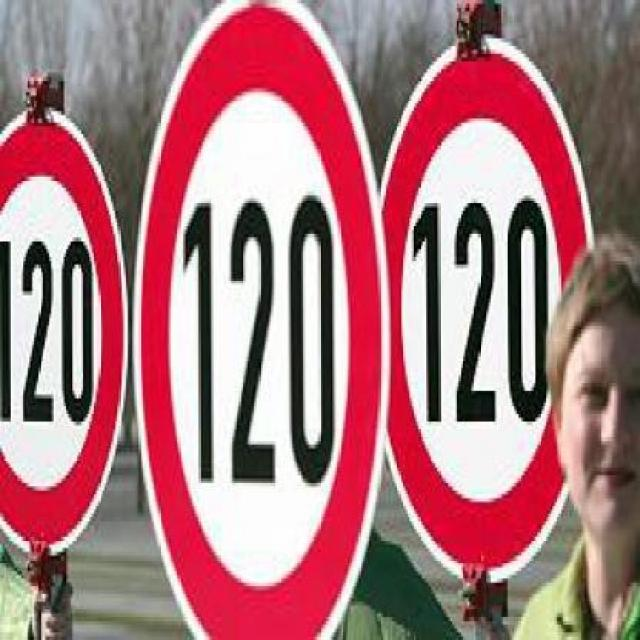forb_speed_over_120: (140, 3, 383, 640), (386, 43, 572, 582), (0, 117, 125, 555)
